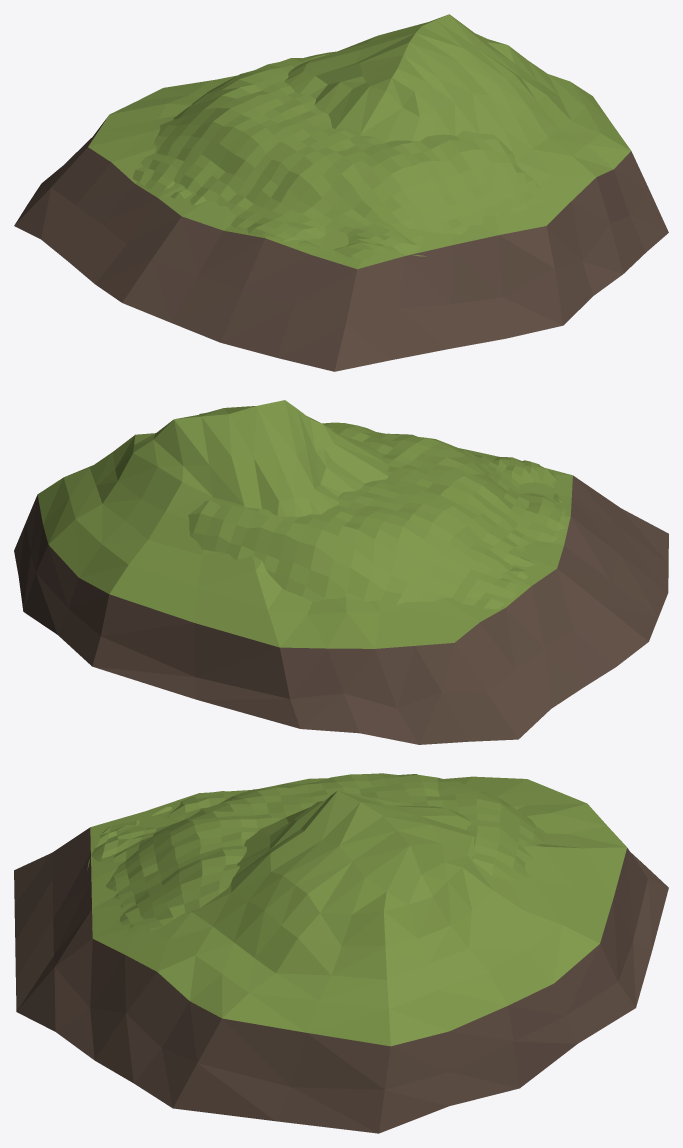
The model's file is island02.fbx.
3 renders of one model, top to bottom at view 1: azimuth 30°, elevation 25°; view 2: azimuth 150°, elevation 25°; view 3: azimuth 270°, elevation 25°, orthographic. The views are drawn at different scales.
Visible parts, largest first — view 1: terrain_03.000; view 2: terrain_03.000; view 3: terrain_03.000.
Part boxes in pixels (bbox=[...]): terrain_03.000: bbox=[14, 14, 668, 371]; terrain_03.000: bbox=[14, 400, 668, 744]; terrain_03.000: bbox=[14, 773, 668, 1133].
Bounding box in the file's own units: 32.68 × 29.47 × 10.58.
